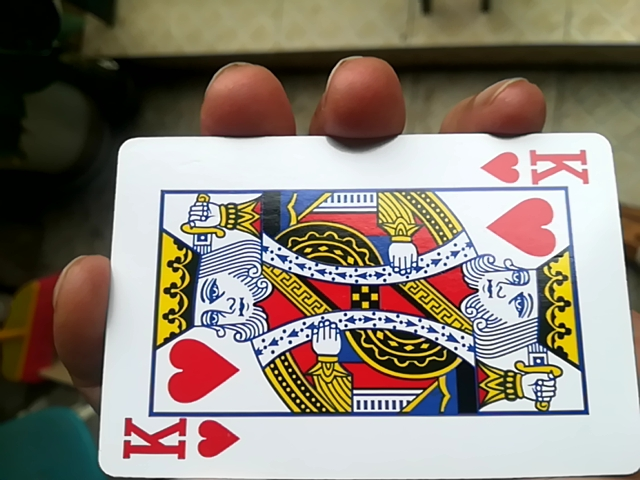hx k: (97, 132, 627, 477)
